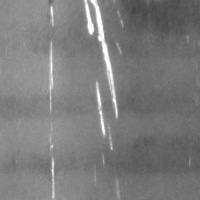scratches: (80, 1, 126, 125), (45, 1, 61, 197), (88, 77, 116, 151)
